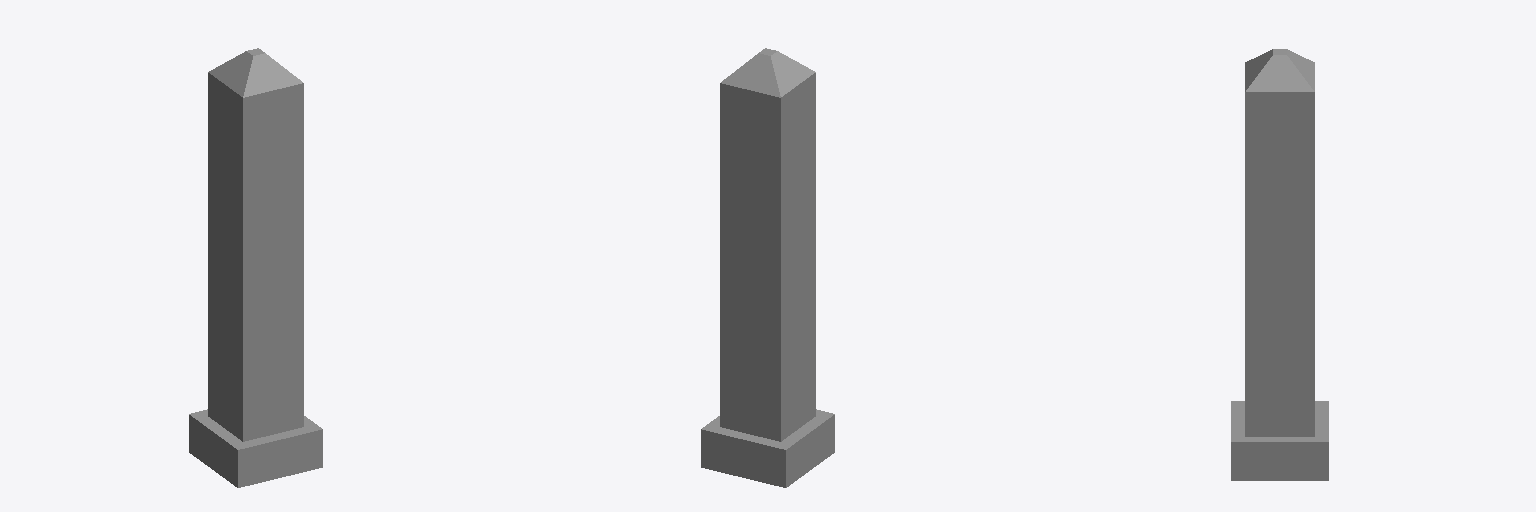
The model's file is grave4.obj.
The picture shows the model from 3 angles: view 1: azimuth 30°, elevation 25°; view 2: azimuth 150°, elevation 25°; view 3: azimuth 270°, elevation 25°; orthographic projection.
Parts seen in each view (by area): view 1: grave4_Cube.003; view 2: grave4_Cube.003; view 3: grave4_Cube.003.
Boxes of the visible parts, x1=… form: grave4_Cube.003: x1=189, y1=48, x2=322, y2=487; grave4_Cube.003: x1=701, y1=48, x2=834, y2=487; grave4_Cube.003: x1=1231, y1=49, x2=1328, y2=480.
Size of the model in its own units: 0.28 by 1.28 by 0.28.